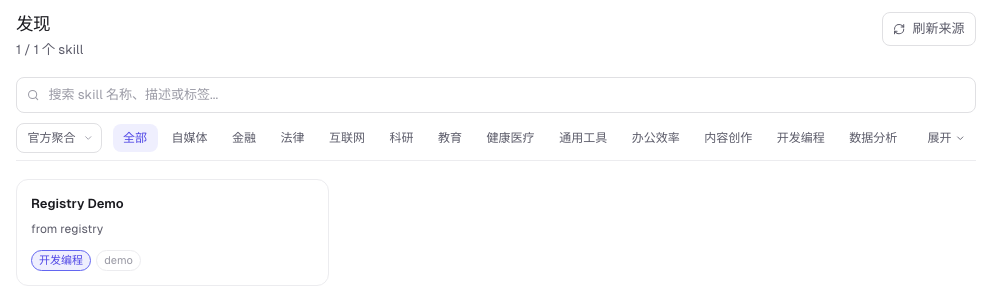
Scenario: DiscoverPage › shows a toast when refresh falls back to local registry cache
Click the button "刷新来源": (929, 29) [882,12,976,46]
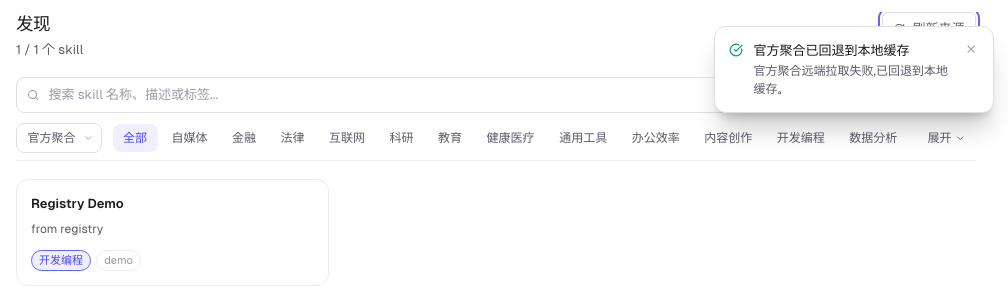
Now the text "官方聚合已回退到本地缓存" is shown, box [754,43,910,58]
Now the text "官方聚合远端拉取失败，已回退到本地缓存。" is shown, box [754,62,953,98]
